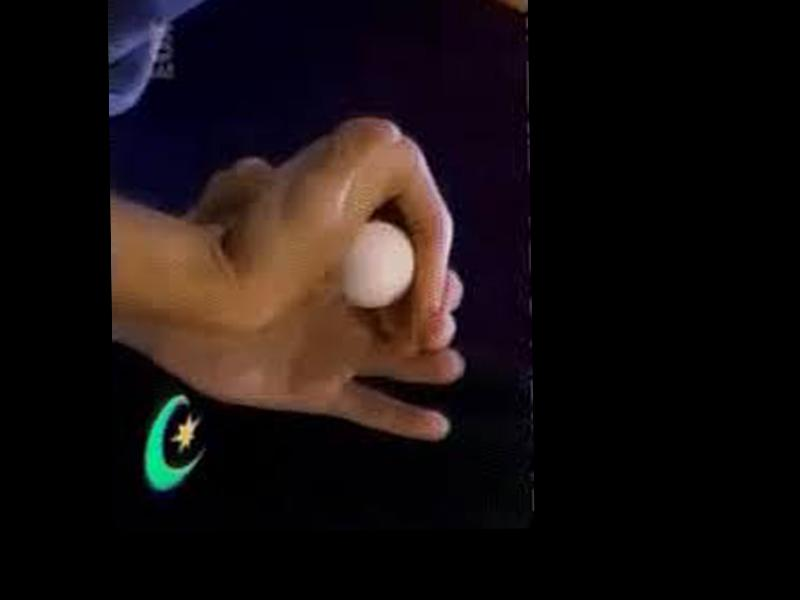Eggs: (347, 218, 417, 309)
